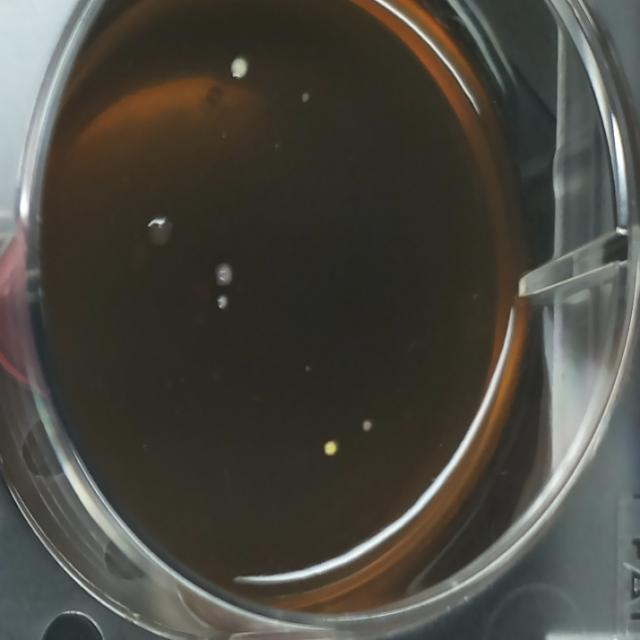Staphylococcus: (226, 51, 252, 85), (322, 434, 343, 464)
Vibrio: (142, 208, 179, 255)
